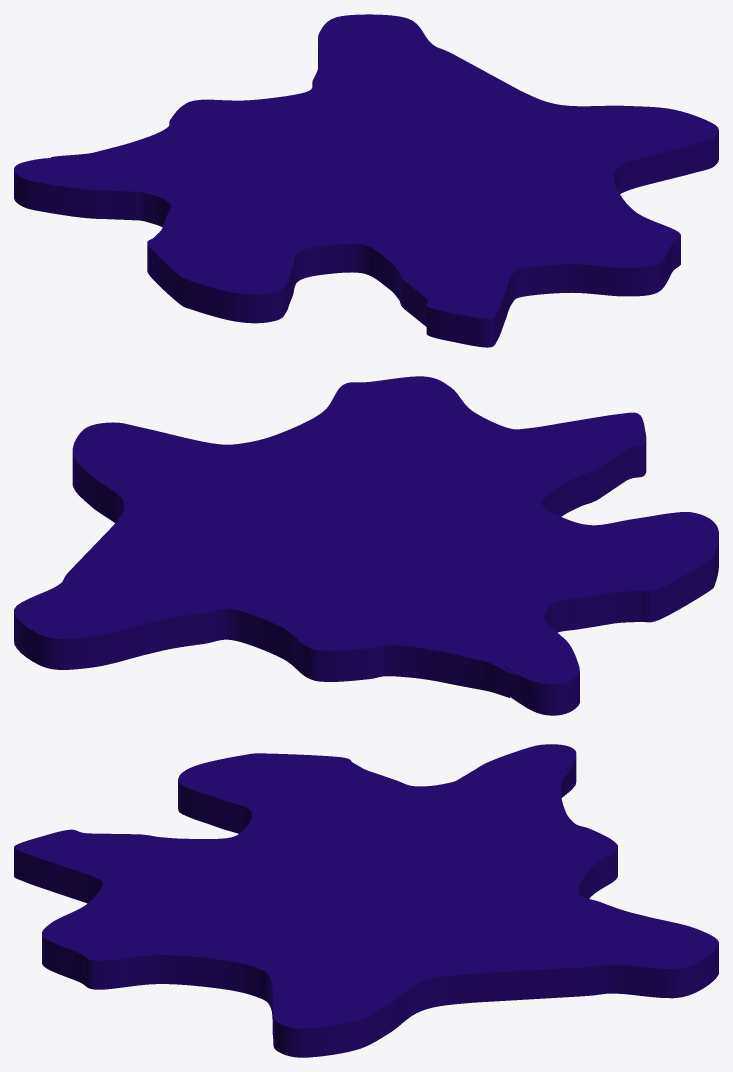
The model's file is Trace3.FBX.
The picture shows the model from 3 angles, top to bottom: view 1: azimuth 30°, elevation 25°; view 2: azimuth 150°, elevation 25°; view 3: azimuth 270°, elevation 25°; orthographic projection. The views are drawn at different scales.
Parts seen in each view (by area): view 1: Plama4; view 2: Plama4; view 3: Plama4.
Boxes of the visible parts, bbox=[...] form: Plama4: bbox=[14, 14, 718, 347]; Plama4: bbox=[14, 376, 718, 715]; Plama4: bbox=[14, 744, 718, 1057].
Bounding box in the file's own units: 1467 × 1537 × 69.83.
